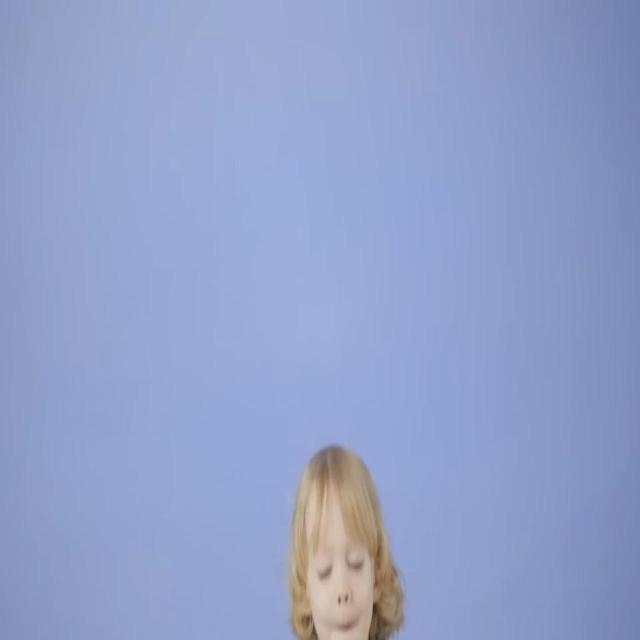no-helmet: (307, 512, 375, 640)
